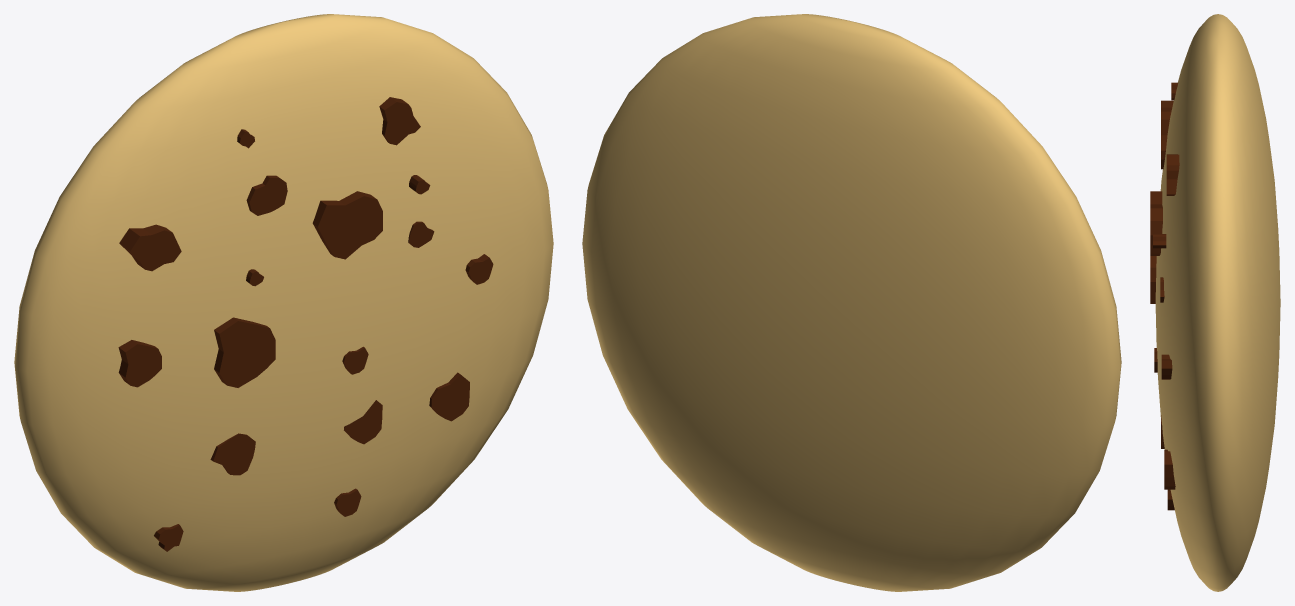
The model's file is Cookie.fbx.
The picture shows the model from 3 angles, left to right: view 1: azimuth 30°, elevation 25°; view 2: azimuth 150°, elevation 25°; view 3: azimuth 270°, elevation 25°; orthographic projection. The views are drawn at different scales.
Visible parts, largest first — view 1: Cookie; view 2: Cookie; view 3: Cookie.
Boxes of the visible parts, bbox=[...] form: Cookie: bbox=[14, 14, 553, 591]; Cookie: bbox=[582, 14, 1121, 591]; Cookie: bbox=[1150, 14, 1280, 591].
Size of the model in its own units: 2 by 2 by 0.4501.
